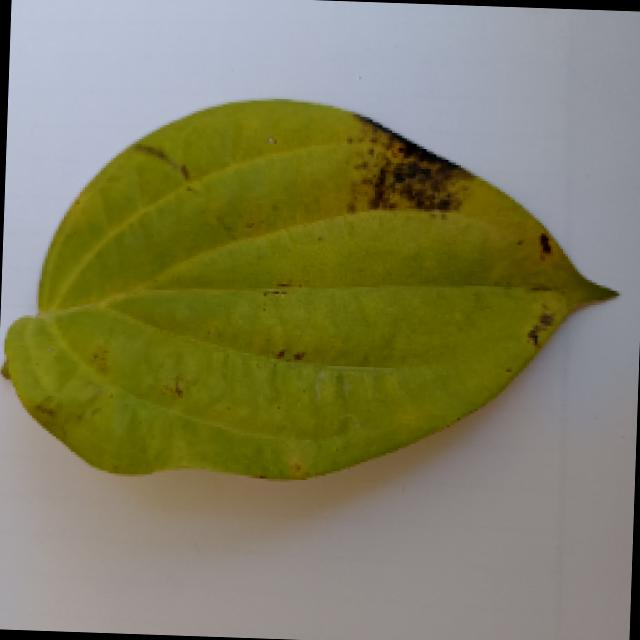slow-decline: (0, 89, 617, 500)
